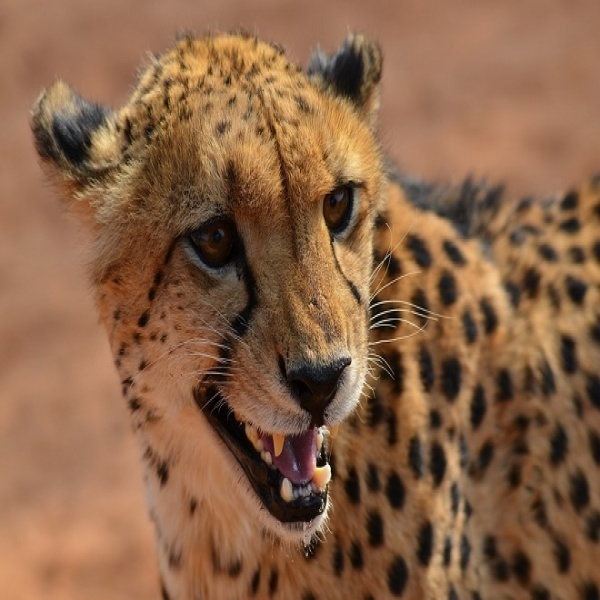Cheetah: (26, 22, 599, 600)
